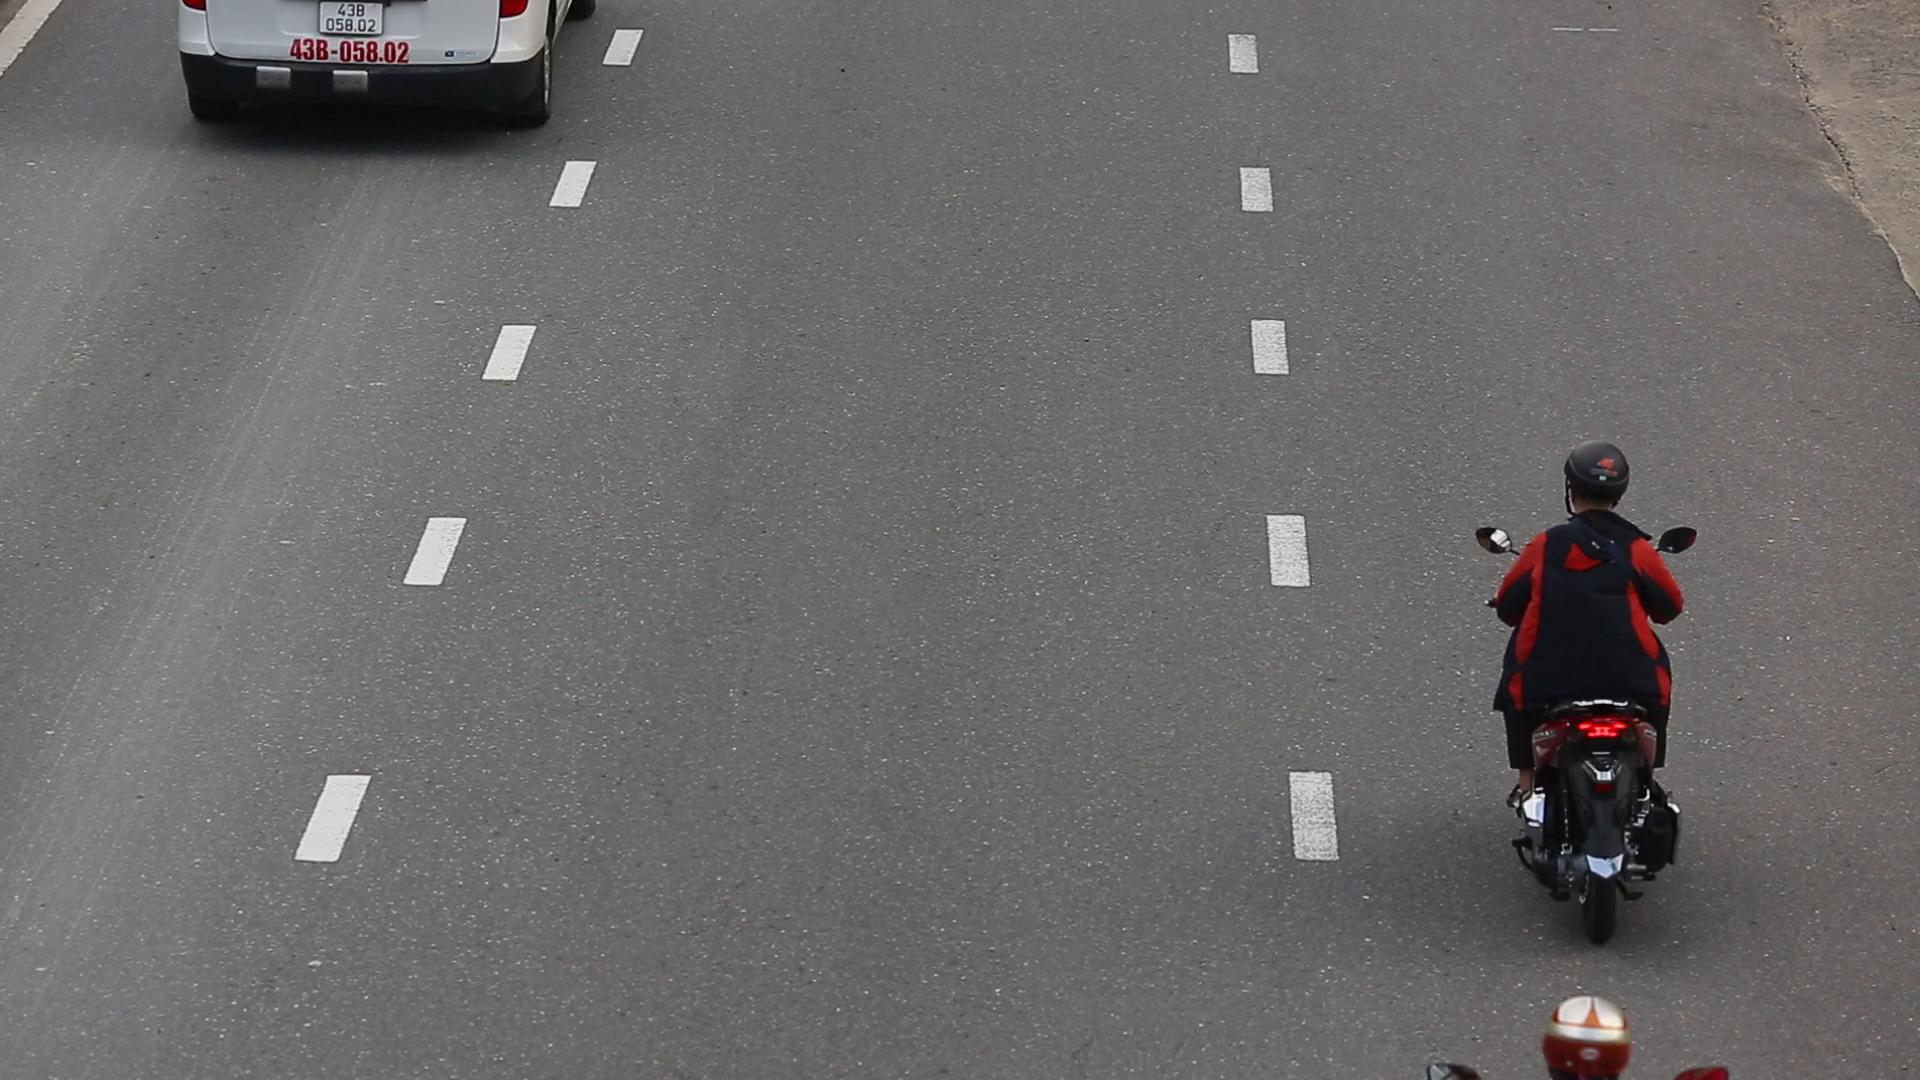motobike: (1466, 438, 1702, 938)
